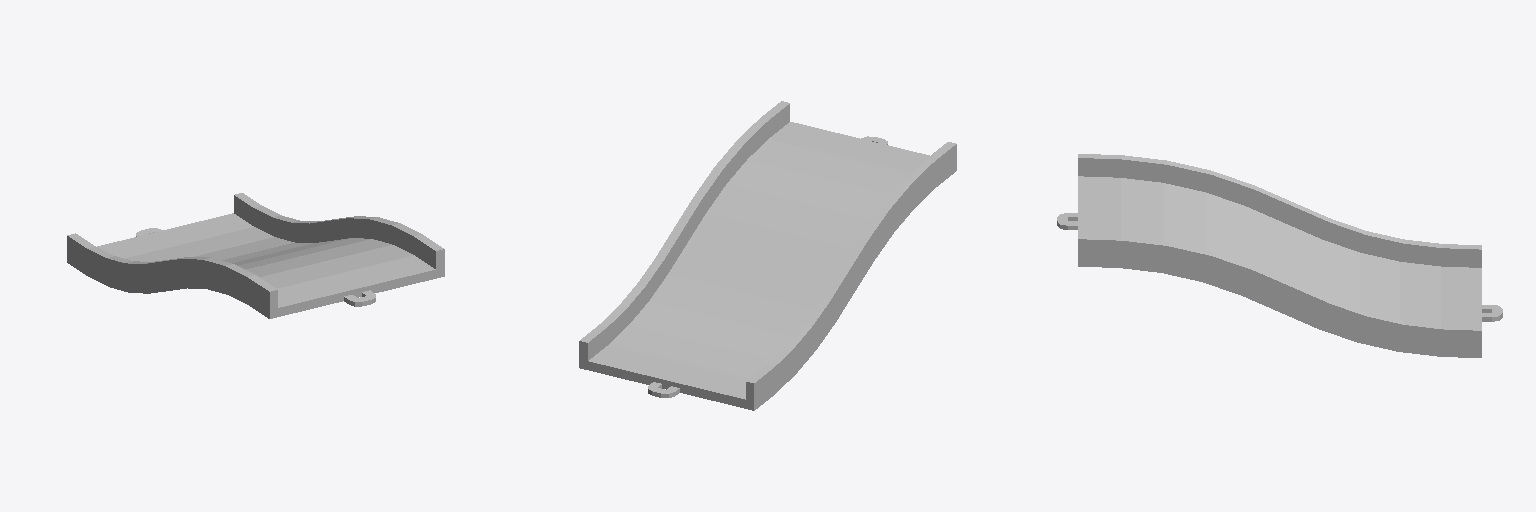
Rendered from track-road-wide-straight-hill-complete.obj.
The picture shows the model from 3 angles: view 1: azimuth 30°, elevation 25°; view 2: azimuth 150°, elevation 25°; view 3: azimuth 270°, elevation 25°; orthographic projection.
Parts seen in each view (by area): view 1: track-road-wide-straight-hill-complete; view 2: track-road-wide-straight-hill-complete; view 3: track-road-wide-straight-hill-complete.
Boxes of the visible parts, x1,y1,x2,y2 form: track-road-wide-straight-hill-complete: [67, 193, 444, 318]; track-road-wide-straight-hill-complete: [579, 101, 956, 410]; track-road-wide-straight-hill-complete: [1057, 154, 1502, 357].
Size of the model in its own units: 2 by 1.3 by 4.4.